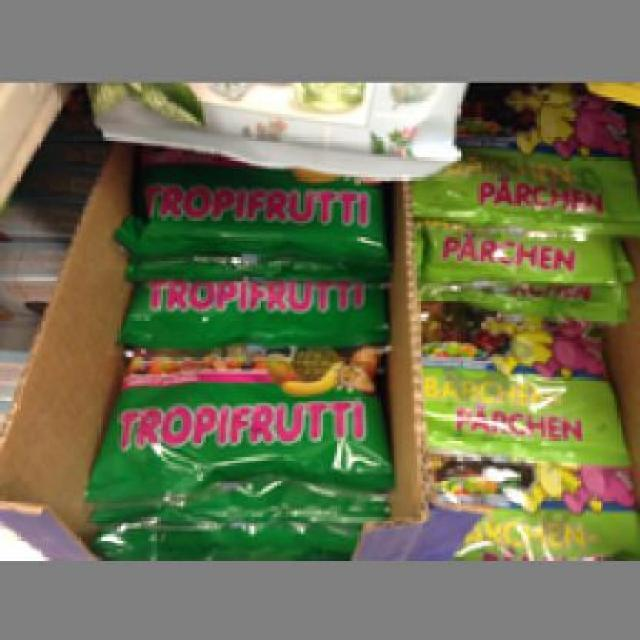Candy: (113, 271, 390, 520), (417, 283, 626, 506)
